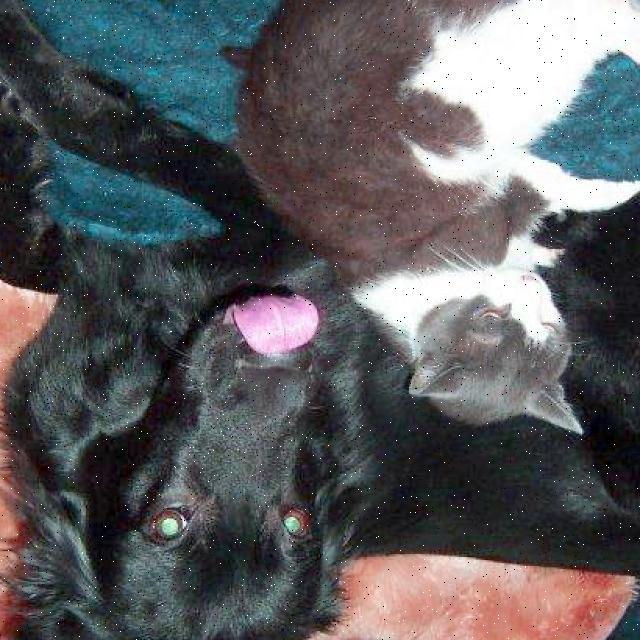Cat: (405, 247, 594, 437)
Dog: (0, 287, 367, 640)
